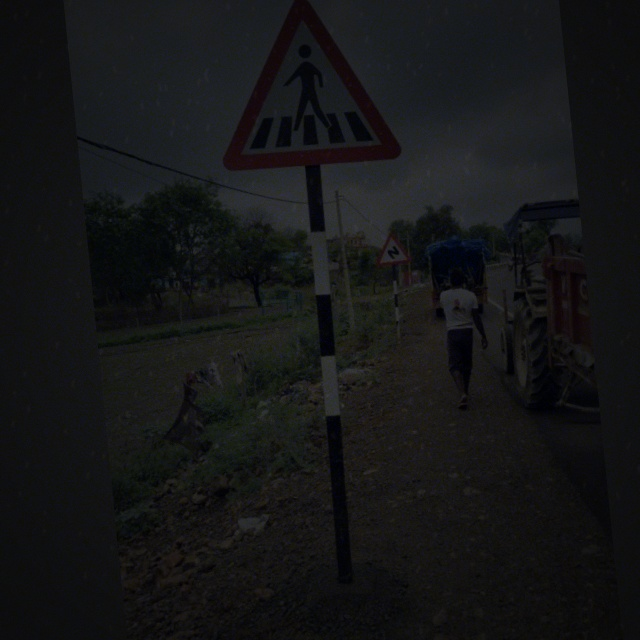Pedestrian_Crossing: (208, 1, 401, 173)
